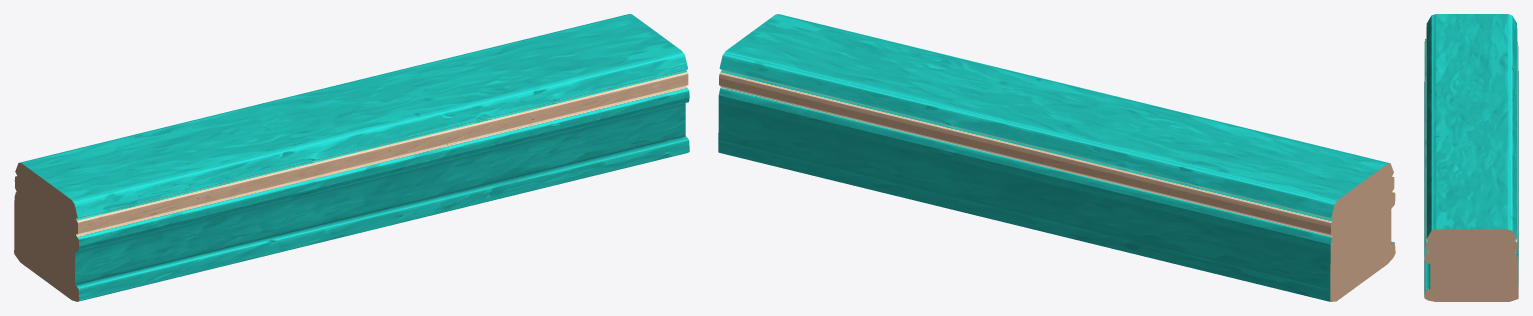
File: edge_teal.glb
3 views of the same model, side by side, from view 1: azimuth 30°, elevation 25°; view 2: azimuth 150°, elevation 25°; view 3: azimuth 270°, elevation 25° (orthographic). The views are drawn at different scales.
Parts seen in each view (by area): view 1: edge_teal; view 2: edge_teal; view 3: edge_teal.
Boxes of the visible parts, bbox=[...] form: edge_teal: bbox=[14, 14, 689, 301]; edge_teal: bbox=[718, 14, 1395, 301]; edge_teal: bbox=[1424, 14, 1518, 301].
Bounding box in the file's own units: 2.8 × 0.4398 × 0.5181.
Materials: 1 (1 with a texture image).
